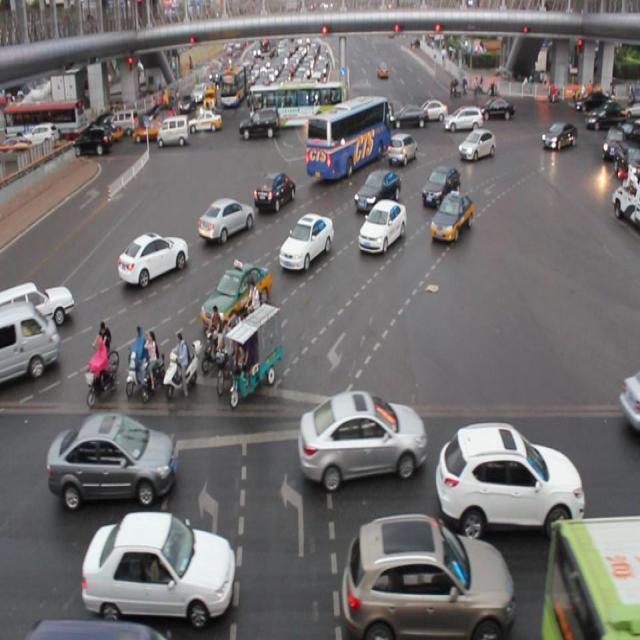car: (342, 513, 516, 640), (82, 511, 237, 623), (435, 420, 584, 536), (46, 410, 178, 506), (299, 388, 426, 484), (202, 260, 272, 329), (117, 228, 189, 286), (1, 278, 76, 326), (278, 212, 333, 272), (197, 195, 254, 244), (356, 199, 406, 254), (428, 190, 474, 244), (253, 169, 296, 210), (354, 169, 399, 208), (421, 167, 459, 203), (540, 118, 578, 153), (457, 129, 494, 160), (388, 131, 416, 166)
truck: (1, 299, 61, 386)
van: (539, 512, 640, 640), (305, 94, 390, 176)
